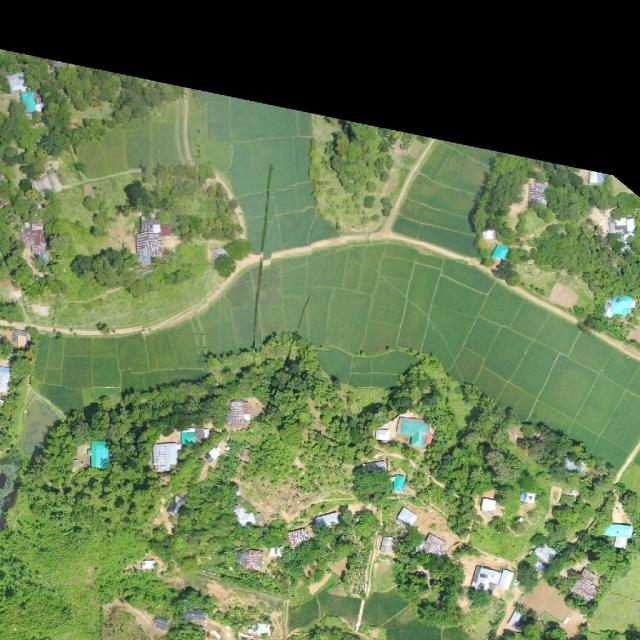agricultural_land: (240, 208, 640, 470), (66, 70, 359, 265), (24, 268, 282, 424), (190, 70, 337, 263), (390, 134, 500, 258), (353, 580, 408, 633), (313, 589, 362, 624), (282, 597, 326, 634), (442, 626, 471, 640)
building: (373, 406, 437, 452), (133, 218, 165, 265), (470, 564, 515, 595), (570, 567, 606, 604), (19, 221, 48, 264), (609, 216, 638, 252), (415, 530, 449, 557), (152, 442, 179, 472), (283, 524, 311, 550), (603, 296, 635, 318), (86, 440, 109, 470), (533, 540, 557, 564), (237, 550, 263, 569), (395, 507, 418, 528), (528, 182, 548, 206), (603, 522, 633, 538), (315, 511, 340, 530), (6, 71, 26, 94), (491, 243, 510, 262), (21, 90, 36, 114), (247, 622, 271, 636), (480, 498, 496, 515), (550, 486, 563, 506), (589, 172, 607, 185), (338, 505, 351, 516)
greenland: (451, 142, 640, 344), (292, 114, 425, 244), (124, 164, 243, 241), (43, 182, 98, 284), (140, 239, 213, 291), (71, 249, 136, 288)
